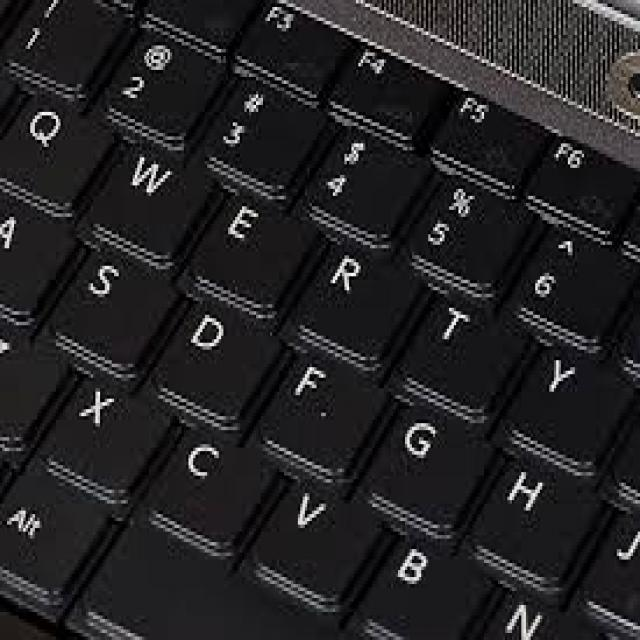others: (2, 4, 640, 633)
